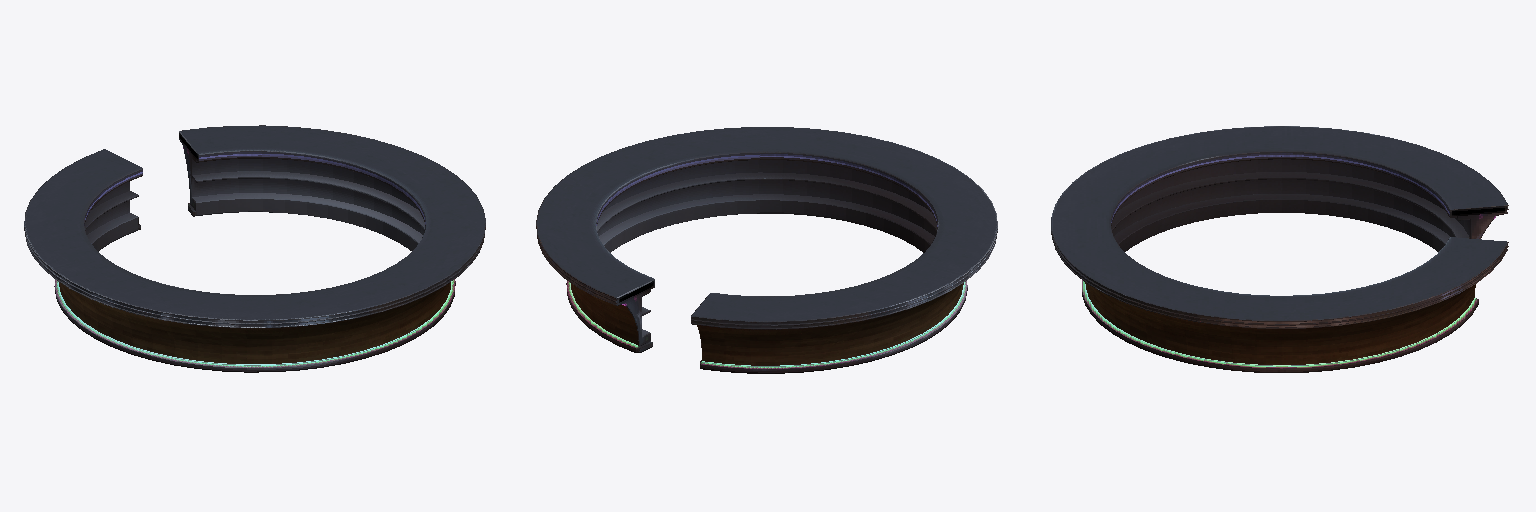
3 renders of one model, left to right at view 1: azimuth 30°, elevation 25°; view 2: azimuth 150°, elevation 25°; view 3: azimuth 270°, elevation 25°, orthographic.
Visible parts, largest first — view 1: BarBaked; view 2: BarBaked; view 3: BarBaked.
Part boxes in pixels (x1,y1,x2,y2): BarBaked: (24, 125, 485, 372); BarBaked: (536, 127, 997, 373); BarBaked: (1051, 126, 1508, 372).
Bounding box in the file's own units: 6.46 × 1.01 × 6.39.
1 materials, 1 textured.